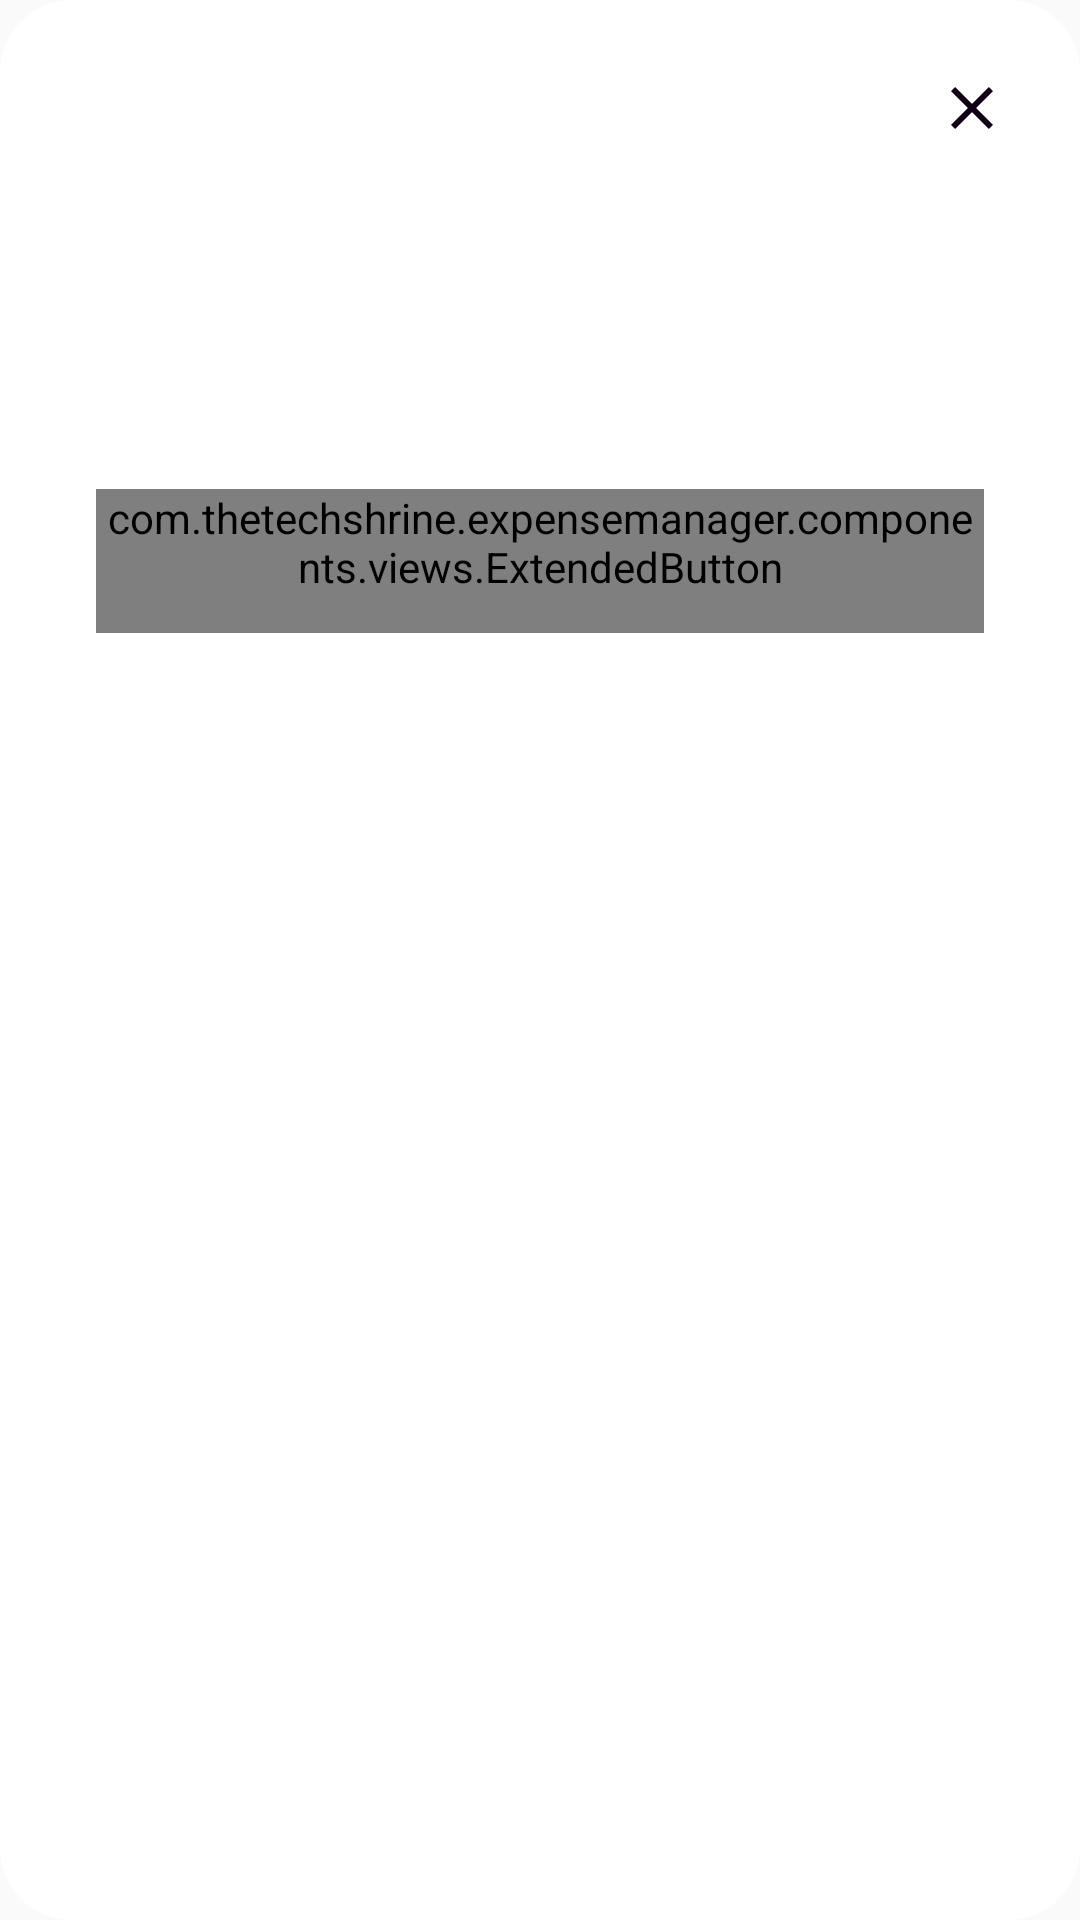

Icon bounding boxes for this 1080px×1920px phone screenshot, format [x1=x1, y1=y1, x2=x2, y2=y2]:
close: [x1=951, y1=87, x2=993, y2=129]
